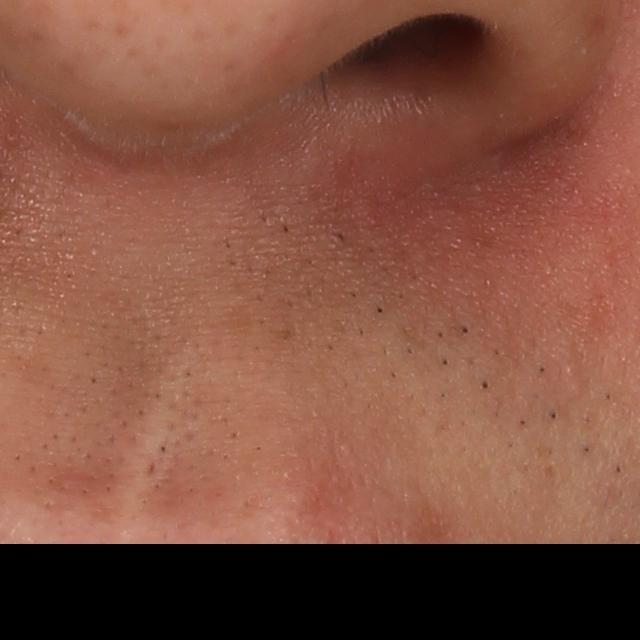other: (114, 342, 205, 520)
